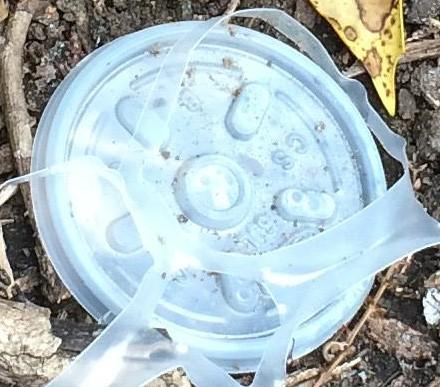Plastic: (26, 17, 392, 373)
